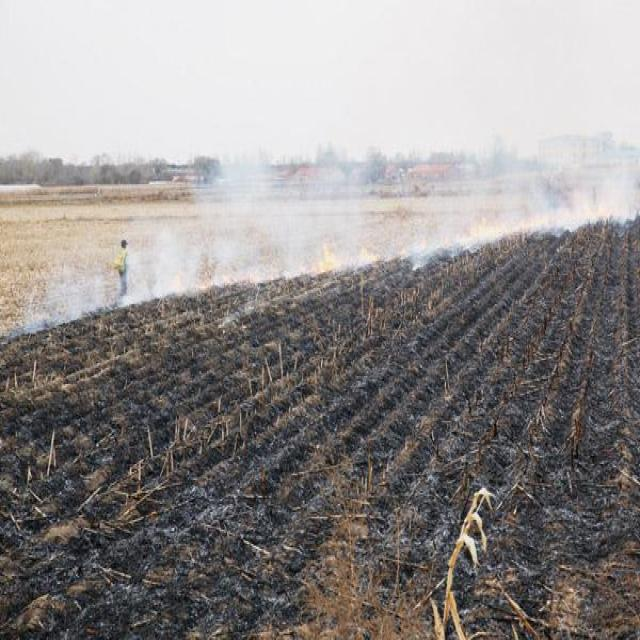fire: (182, 238, 448, 294)
smoke: (455, 200, 640, 250)
